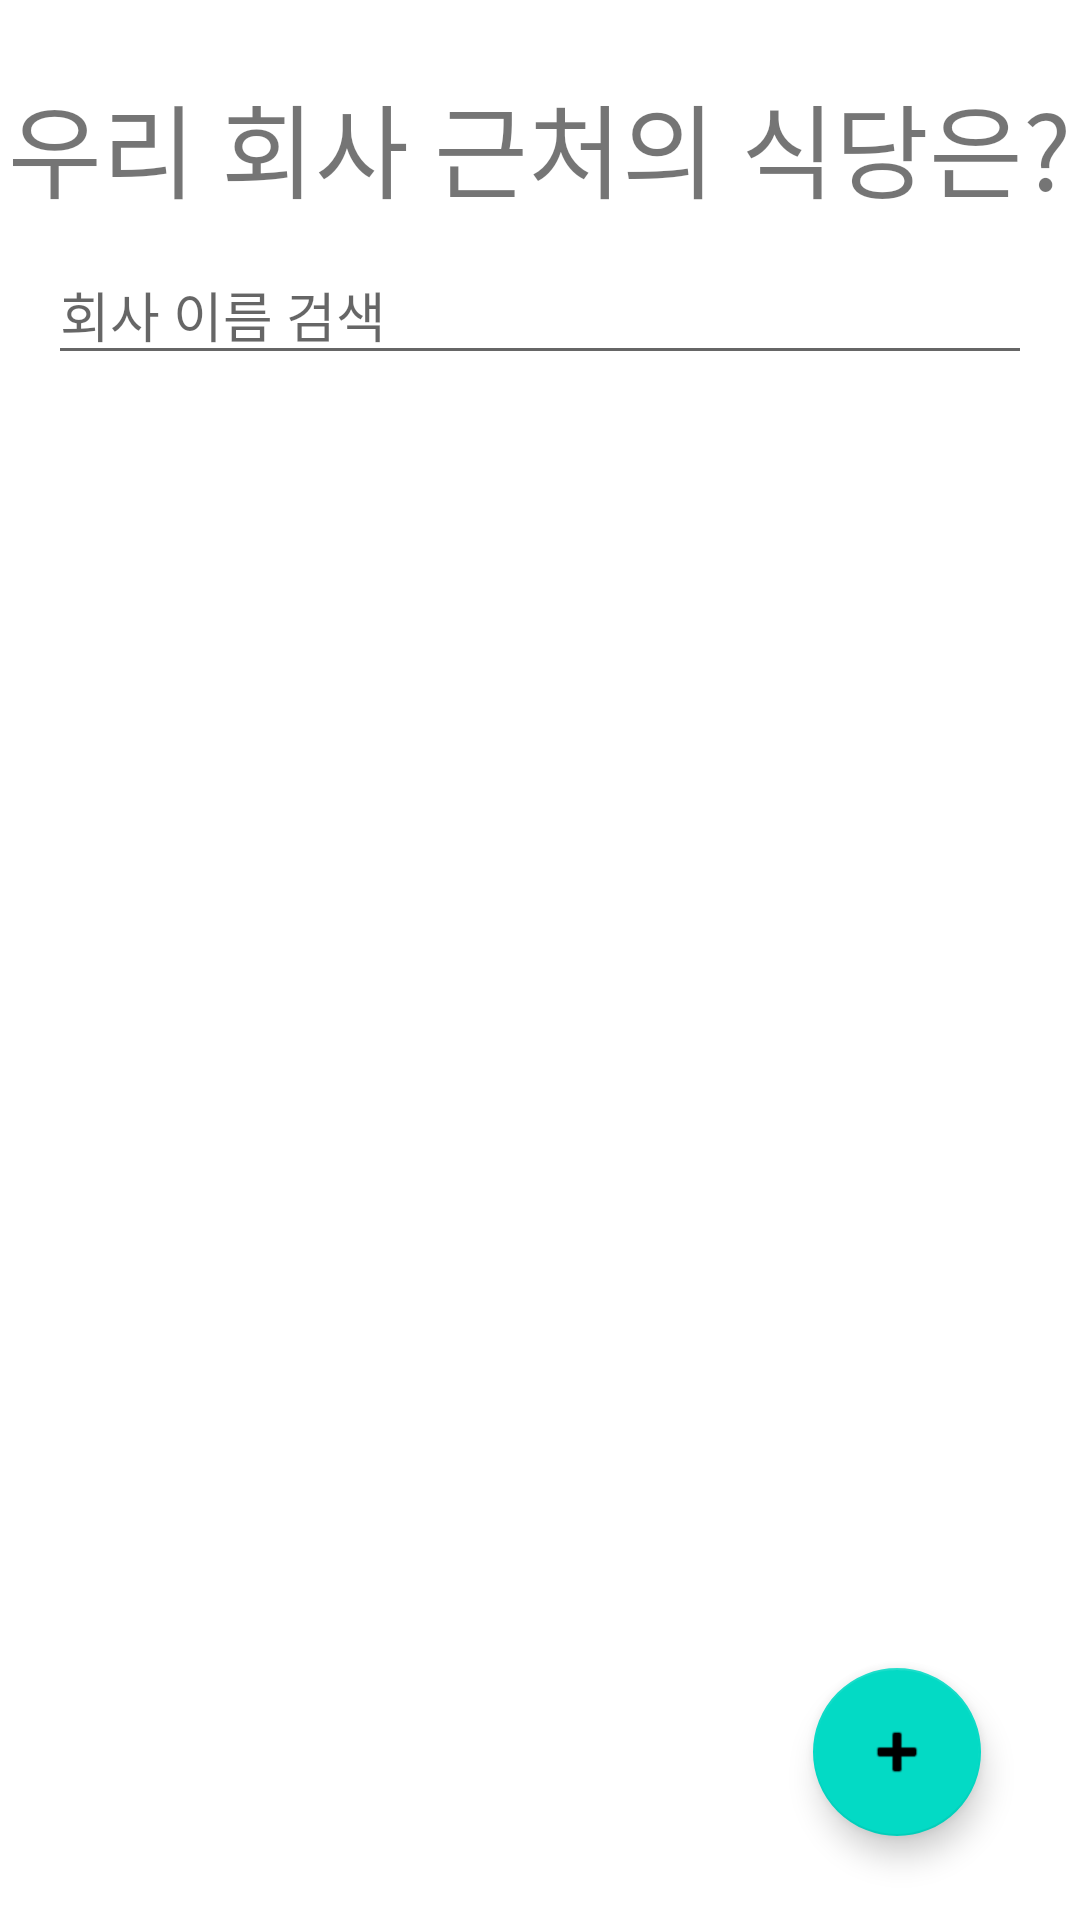

Icon bounding boxes for this 1080*1920 phone screenshot, format (x1, y1, x2, y2):
add: (813, 1668, 981, 1836)
